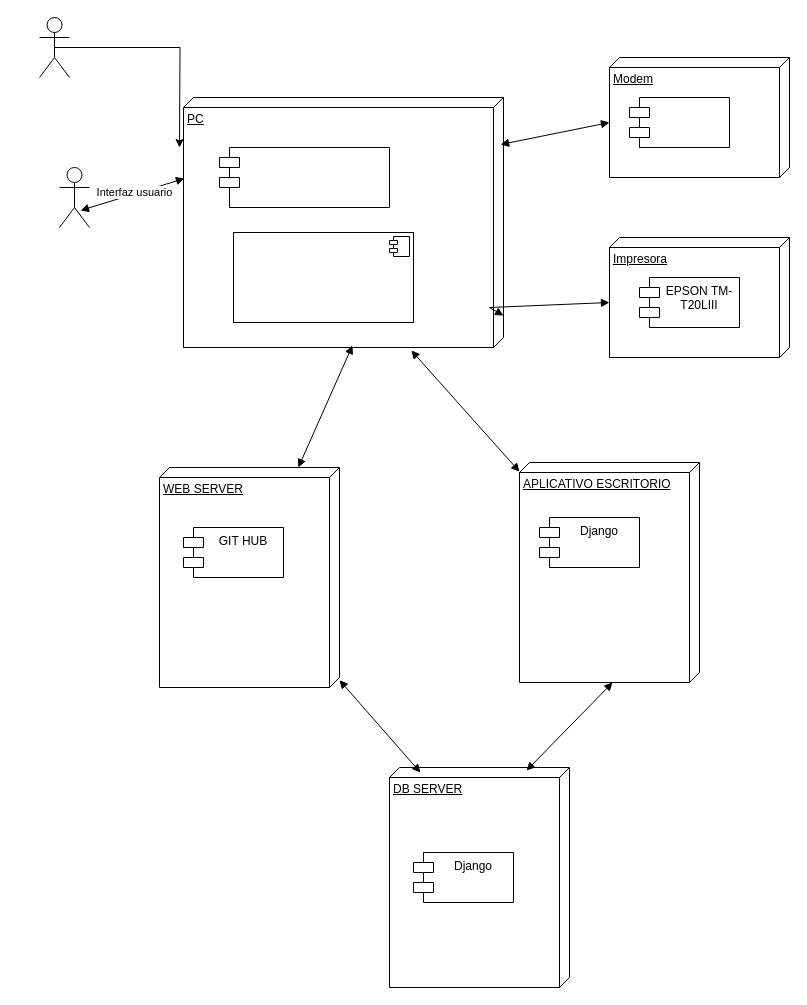
Image size: 807x1005. Some labels were removed from this diagram. The centre of each missing label's shape, as x and y in pixels:
"Administrador" goes at (x=54, y=47).
"Componentes Procesador Intel I5 3.5 Ghz. 8 Gb RAM SSD 2TB" goes at (x=323, y=277).
"ROUTER TP-link TL-MR640" goes at (x=679, y=122).
"usuario" goes at (x=74, y=197).
"WEB BROWSER" goes at (x=304, y=177).
